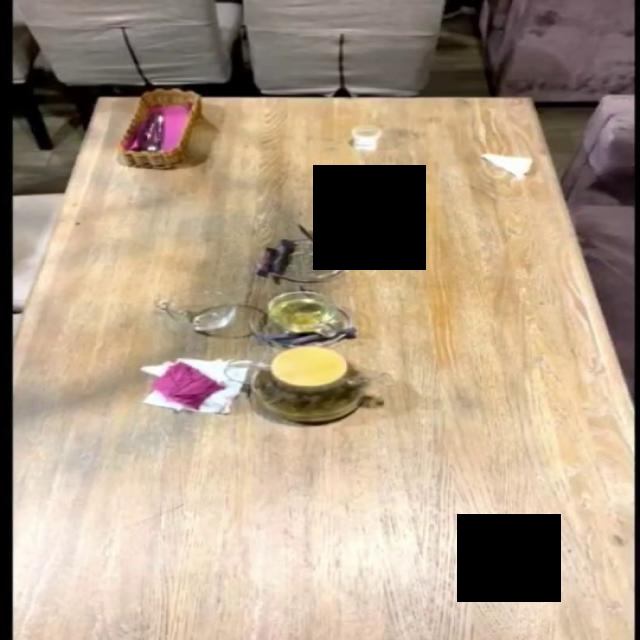tea: (250, 345, 371, 423)
